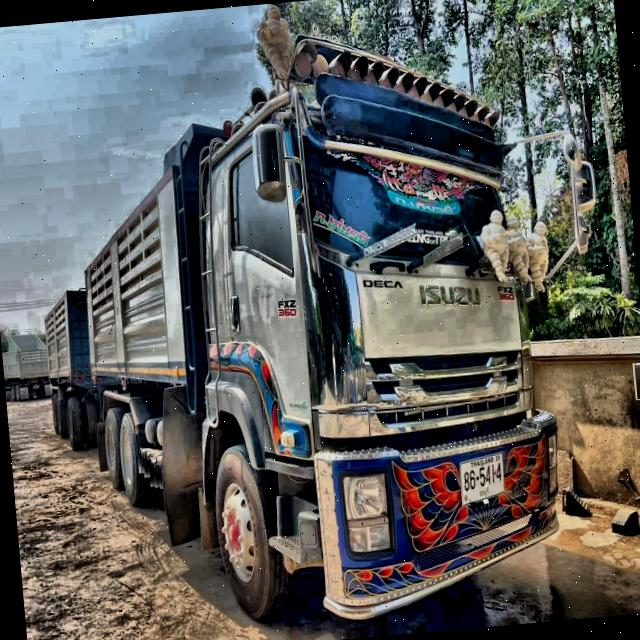trailer: (21, 8, 574, 640)
